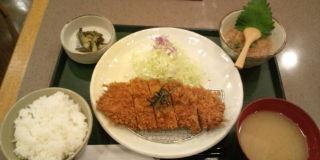plate: (0, 87, 92, 159)
rice: (14, 91, 87, 159)
